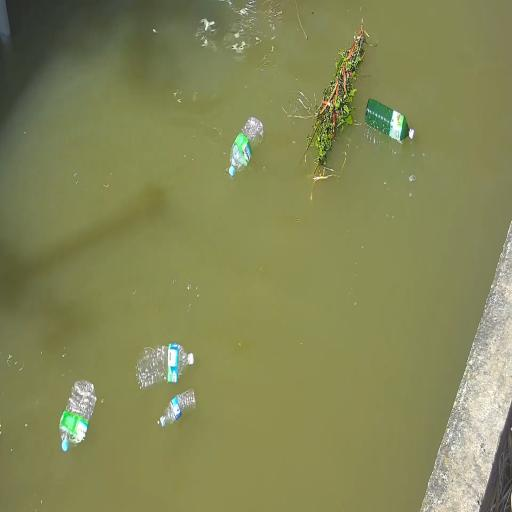plastic: (130, 332, 192, 387), (58, 372, 100, 449), (363, 95, 414, 147), (230, 110, 264, 176), (150, 382, 198, 428)
twig: (302, 27, 362, 171)
